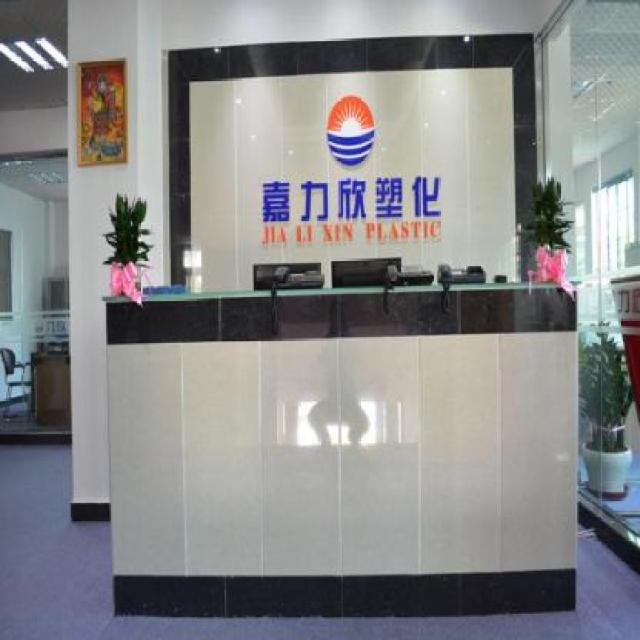frontdesk: (99, 276, 586, 624)
